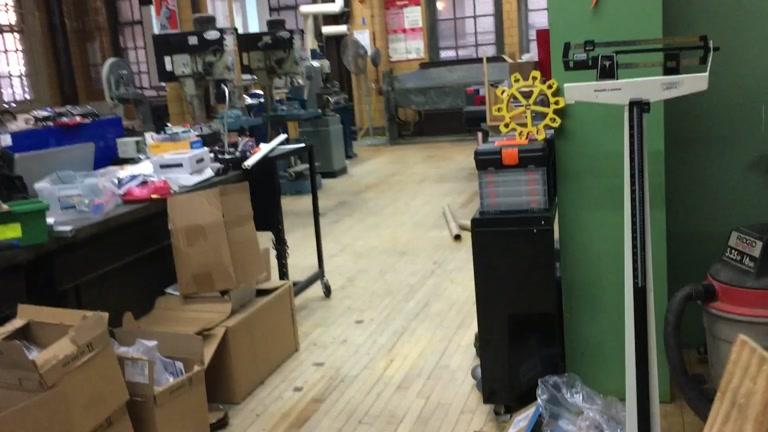gear: (491, 69, 566, 143)
